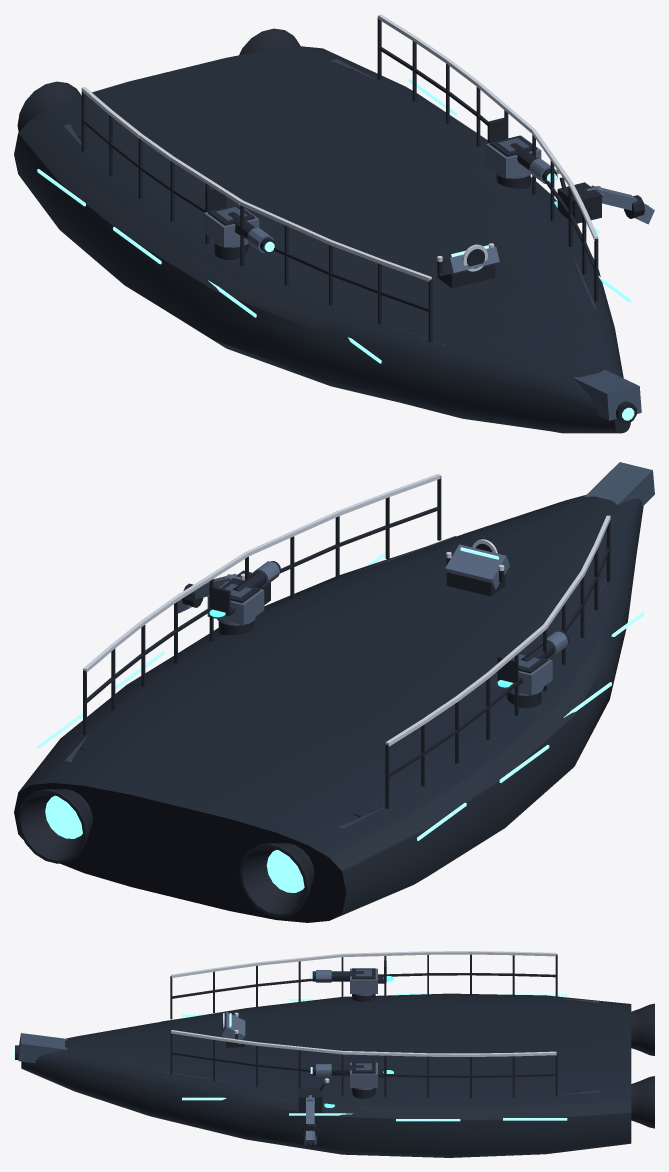
File: nave_interceptor.fbx
3 renders of one model, top to bottom at view 1: azimuth 30°, elevation 25°; view 2: azimuth 150°, elevation 25°; view 3: azimuth 270°, elevation 25°, orthographic. The views are drawn at different scales.
Parts seen in each view (by area): view 1: Interceptor_Casco, Interceptor_Barandilla_Der, Interceptor_Barandilla_Izq, Interceptor_Canon_01, Interceptor_Canon_02, Interceptor_Ancla, Interceptor_Proa, Interceptor_Timon, Interceptor_Neon_01, Interceptor_Motor_02, Interceptor_Motor_01; view 2: Interceptor_Casco, Interceptor_Barandilla_Izq, Interceptor_Barandilla_Der, Interceptor_Motor_02, Interceptor_Motor_01, Interceptor_Canon_01, Interceptor_Canon_02, Interceptor_Timon, Interceptor_Neon_03, Interceptor_Proa, Interceptor_Neon_01, Interceptor_Ancla; view 3: Interceptor_Casco, Interceptor_Barandilla_Izq, Interceptor_Barandilla_Der, Interceptor_Canon_01, Interceptor_Canon_02, Interceptor_Motor_01, Interceptor_Motor_02, Interceptor_Neon_01, Interceptor_Proa, Interceptor_Ancla, Interceptor_Timon.
Boxes of the visible parts, x1,y1,x2,y2 form: Interceptor_Casco: (14,46,630,433); Interceptor_Barandilla_Der: (81,87,432,342); Interceptor_Barandilla_Izq: (377,14,598,301); Interceptor_Canon_01: (485,118,557,188); Interceptor_Canon_02: (203,186,275,259); Interceptor_Ancla: (556,169,654,224); Interceptor_Proa: (573,369,641,423); Interceptor_Timon: (436,243,499,288); Interceptor_Neon_01: (37,78,631,363); Interceptor_Motor_02: (17,81,81,131); Interceptor_Motor_01: (239,28,300,55); Interceptor_Casco: (14,495,643,922); Interceptor_Barandilla_Izq: (83,474,441,735); Interceptor_Barandilla_Der: (385,515,610,808); Interceptor_Motor_02: (239,843,314,917); Interceptor_Motor_01: (17,789,92,863); Interceptor_Canon_01: (207,561,280,635); Interceptor_Canon_02: (495,631,568,708); Interceptor_Timon: (445,539,509,596); Interceptor_Neon_03: (45,795,304,892); Interceptor_Proa: (584,462,654,506); Interceptor_Neon_01: (37,551,644,840); Interceptor_Ancla: (178,570,270,613); Interceptor_Casco: (21,993,631,1157); Interceptor_Barandilla_Izq: (170,1030,557,1098); Interceptor_Barandilla_Der: (170,951,557,1019); Interceptor_Canon_01: (312,1056,386,1098); Interceptor_Canon_02: (312,961,386,1001); Interceptor_Motor_01: (631,1076,654,1128); Interceptor_Motor_02: (631,1003,654,1055); Interceptor_Neon_01: (182,973,567,1121); Interceptor_Proa: (15,1033,67,1063); Interceptor_Ancla: (298,1078,329,1145); Interceptor_Timon: (221,1012,245,1047).
Size of the model in its own units: 4.44 by 1.57 by 8.39.
Materials: 11 (1 with a texture image).
